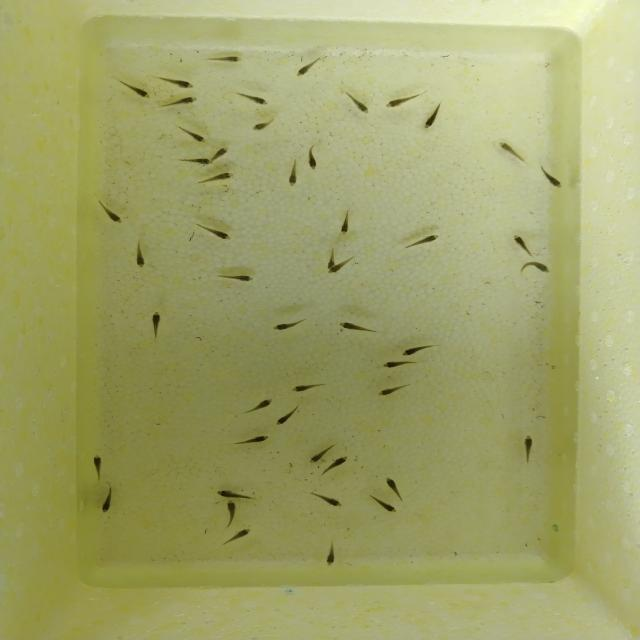fingerling: (186, 169, 239, 189), (190, 221, 237, 241), (127, 236, 152, 272), (282, 378, 332, 396), (308, 490, 351, 510), (120, 80, 157, 103), (418, 103, 446, 133), (144, 306, 167, 342), (492, 138, 526, 162), (407, 229, 444, 251), (366, 382, 416, 398), (176, 125, 214, 146), (96, 200, 125, 227), (242, 117, 284, 135), (159, 93, 200, 111), (216, 270, 262, 286), (343, 89, 370, 116), (537, 162, 562, 191), (268, 316, 303, 336), (333, 318, 374, 335), (326, 255, 360, 275), (301, 140, 321, 174), (509, 231, 535, 257), (393, 342, 438, 357), (272, 406, 300, 430), (289, 59, 318, 82), (236, 92, 278, 107), (520, 257, 555, 275), (368, 495, 398, 516), (98, 484, 119, 514), (378, 94, 416, 110), (337, 206, 355, 239), (248, 394, 276, 415), (157, 76, 202, 89), (520, 431, 538, 463), (284, 155, 300, 191), (210, 488, 253, 501), (372, 358, 418, 370), (88, 450, 106, 480), (235, 433, 273, 447), (227, 526, 255, 545), (324, 456, 350, 476), (210, 52, 247, 66), (221, 500, 242, 524), (322, 540, 340, 568), (382, 474, 403, 497), (175, 157, 217, 167), (306, 447, 324, 465), (214, 145, 233, 159)
